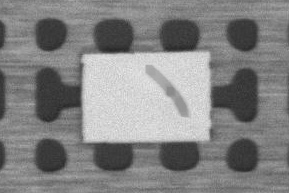DIE_INK: (208, 39, 289, 81)
